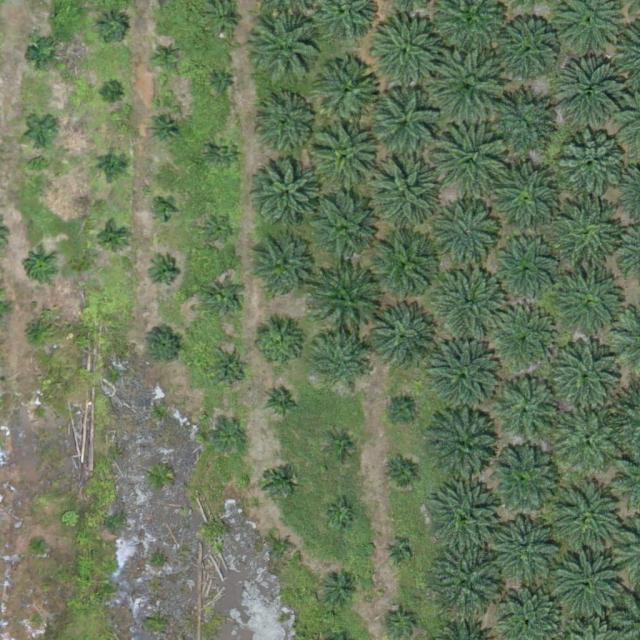Healthy: (430, 47, 508, 126), (548, 198, 626, 277), (554, 267, 632, 346), (366, 152, 444, 231), (433, 120, 511, 199), (544, 334, 622, 413), (437, 268, 508, 339), (553, 60, 623, 131), (370, 233, 440, 304), (312, 268, 382, 339), (310, 196, 380, 267), (312, 123, 382, 194), (366, 303, 437, 373), (430, 344, 500, 415), (430, 414, 500, 485), (431, 484, 502, 554), (432, 547, 502, 618), (486, 303, 557, 373), (554, 404, 625, 474), (556, 481, 626, 552), (255, 14, 325, 84), (369, 15, 439, 85), (368, 88, 438, 158), (558, 130, 628, 200), (492, 164, 562, 234), (491, 445, 561, 515), (495, 373, 565, 443), (554, 548, 624, 618), (494, 244, 557, 307), (439, 206, 502, 269), (257, 162, 320, 225), (496, 19, 558, 82), (317, 59, 379, 122), (498, 518, 560, 581), (487, 96, 549, 158), (250, 241, 312, 303), (260, 98, 315, 153), (313, 335, 368, 390)
Small: (251, 318, 305, 373), (210, 350, 250, 390), (207, 282, 246, 321), (145, 325, 184, 364), (322, 572, 361, 611), (266, 383, 305, 422), (96, 223, 127, 255), (149, 257, 180, 289), (207, 3, 238, 35), (96, 11, 127, 43), (386, 607, 417, 639), (21, 316, 52, 348), (215, 425, 246, 456), (263, 465, 294, 496), (210, 140, 241, 171), (98, 150, 129, 181), (28, 116, 59, 147), (25, 252, 56, 283), (29, 41, 60, 72), (326, 500, 357, 531), (327, 432, 358, 463), (151, 43, 182, 74), (203, 214, 234, 245), (151, 114, 182, 145), (388, 395, 419, 426), (388, 460, 419, 491), (153, 198, 177, 222), (273, 536, 297, 560), (387, 542, 411, 566), (32, 535, 48, 551), (214, 77, 230, 92), (104, 85, 119, 101), (30, 405, 46, 420)
